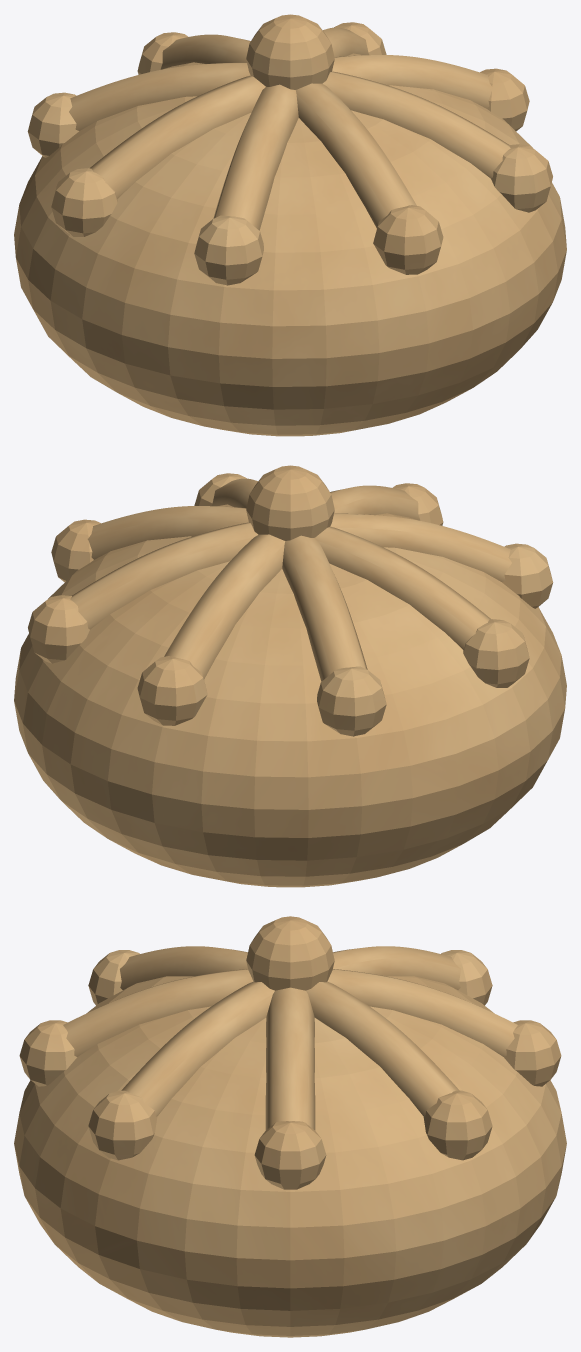
File: pan_de_muerto.glb
The picture shows the model from 3 angles, top to bottom: view 1: azimuth 30°, elevation 25°; view 2: azimuth 150°, elevation 25°; view 3: azimuth 270°, elevation 25°; orthographic projection.
Visible parts, largest first — view 1: PanDeMuerto; view 2: PanDeMuerto; view 3: PanDeMuerto.
Boxes of the visible parts, x1=… form: PanDeMuerto: x1=14, y1=14, x2=566, y2=436; PanDeMuerto: x1=14, y1=465, x2=566, y2=887; PanDeMuerto: x1=14, y1=916, x2=566, y2=1337.
Size of the model in its own units: 0.2 by 0.151 by 0.2.
1 material, 1 textured.
